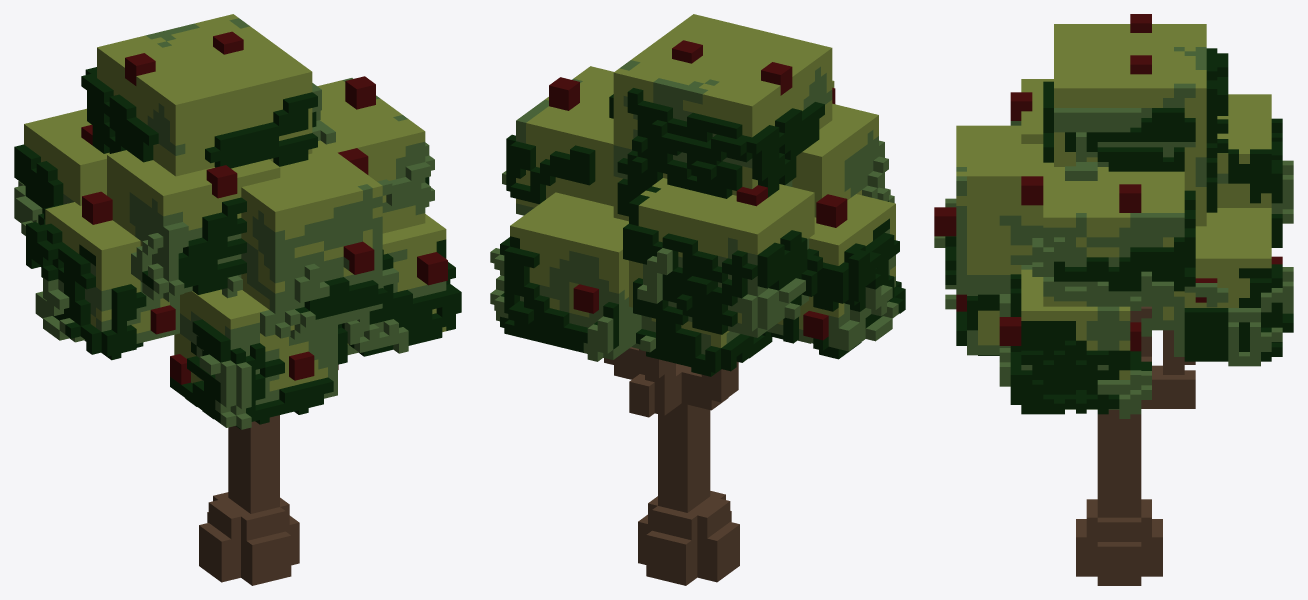
Rendered from Tree_Green.obj.
The picture shows the model from 3 angles, left to right: view 1: azimuth 30°, elevation 25°; view 2: azimuth 150°, elevation 25°; view 3: azimuth 270°, elevation 25°; orthographic projection. The views are drawn at different scales.
Bounding box in the file's own units: 3.8 × 5.1 × 3.3.
1 material, 1 textured.
